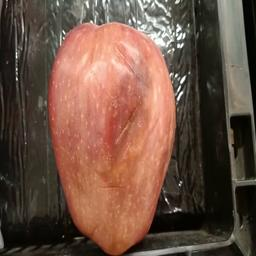Apple Semirotten: (44, 20, 179, 256)
